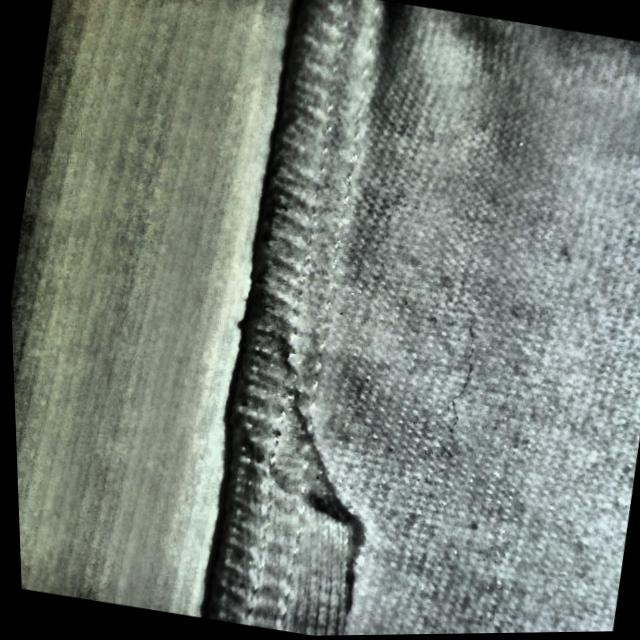seam: (191, 395, 415, 639)
